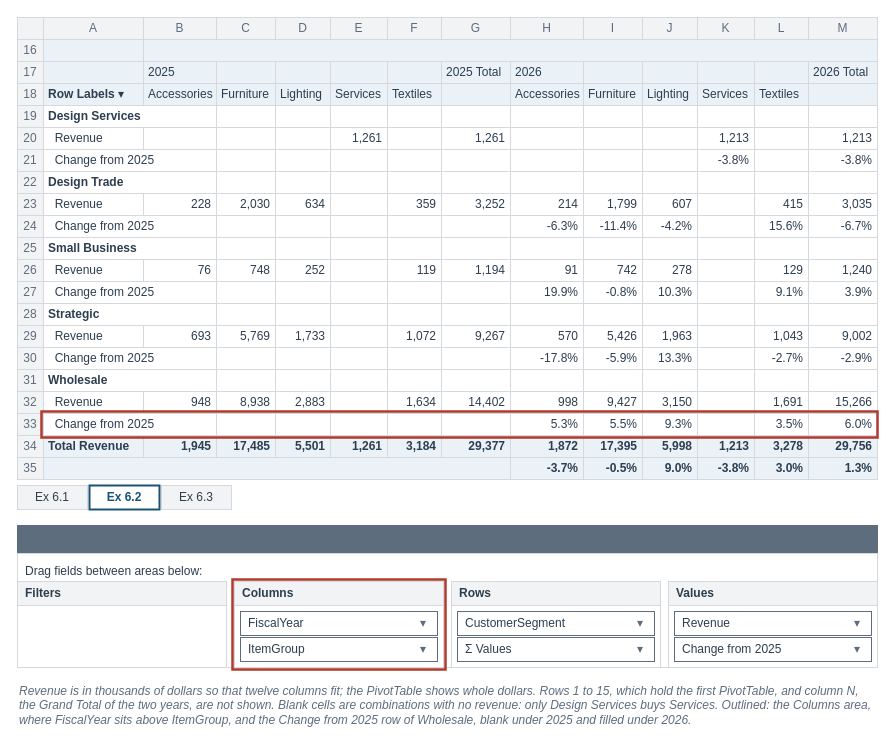
This 896x750 diagram has some shape labels left out. The box of each missing label's shape, as (x1, y1, x2, y2) in pixels:
Column Labels ▾: (142, 38, 878, 62)
PivotTable Fields: (16, 524, 878, 554)
Total Change from 2025: (42, 456, 510, 480)
